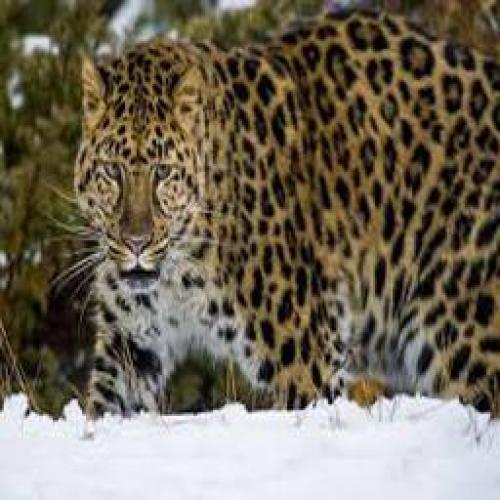amur_leopard-endangered: (70, 11, 500, 396)
